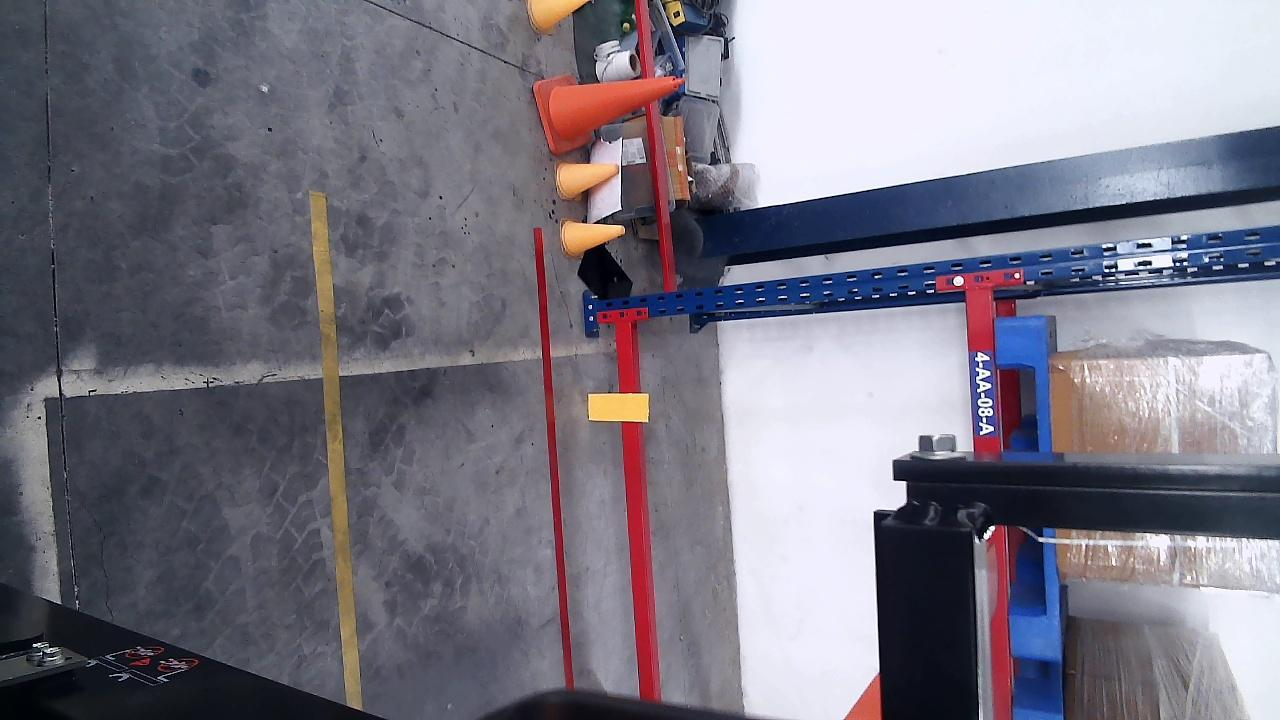h_rack: (614, 321, 658, 697), (962, 291, 1001, 451)
orange_strip: (590, 392, 648, 422)
red_line: (534, 229, 575, 686)
yellow_line: (310, 188, 364, 709)
